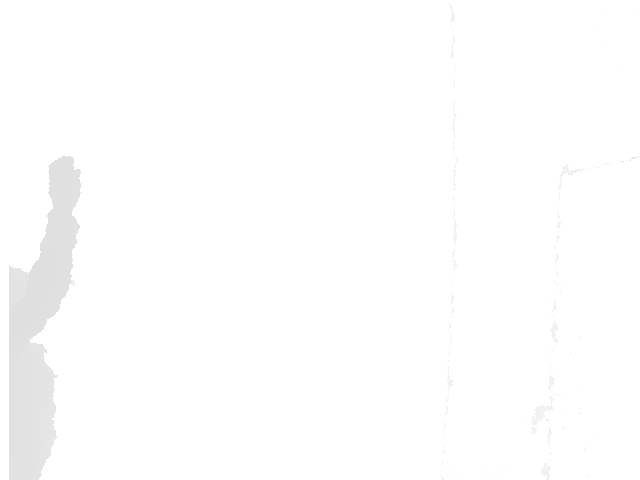hand: (46, 154, 82, 211)
person: (8, 154, 82, 480)
